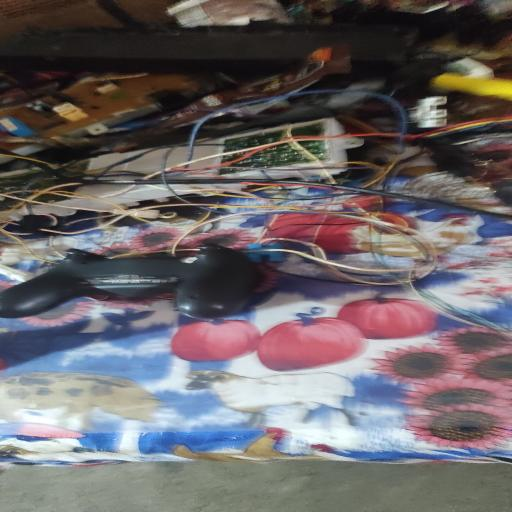ControlPlay4: (0, 244, 258, 319)
